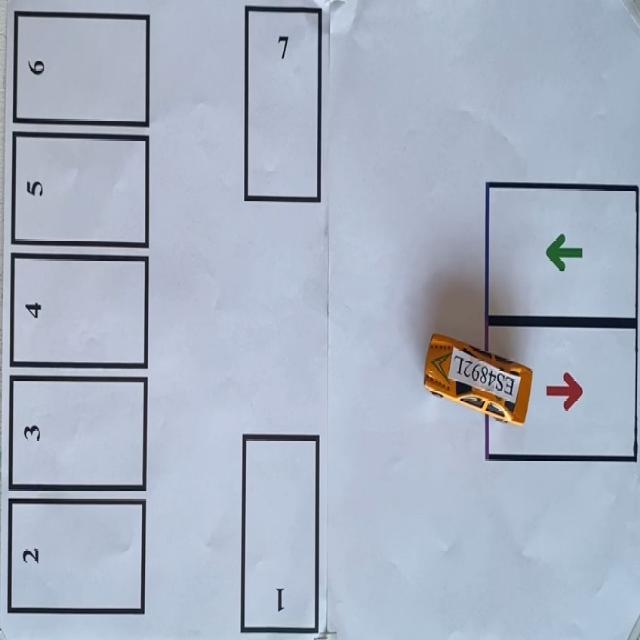car: (423, 333, 532, 424)
